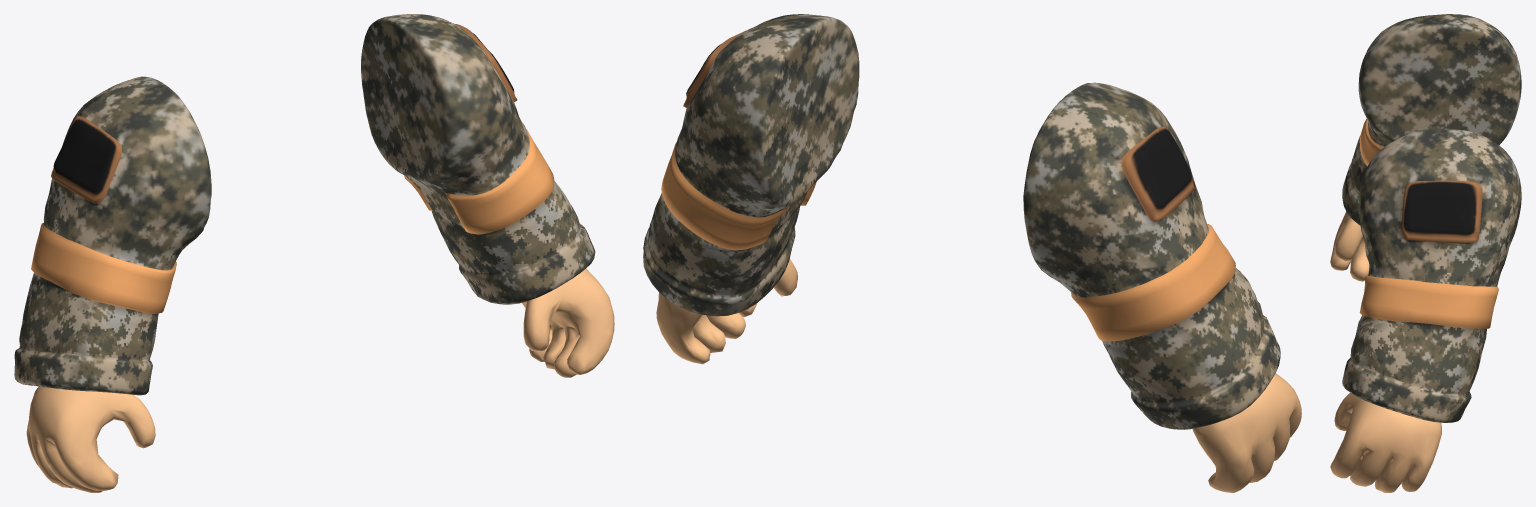
The model's file is Hand.glb.
3 renders of one model, left to right at view 1: azimuth 30°, elevation 25°; view 2: azimuth 150°, elevation 25°; view 3: azimuth 270°, elevation 25°, orthographic. The views are drawn at different scales.
Visible parts, largest first — view 1: Hand_low; view 2: Hand_low; view 3: Hand_low.
Boxes of the visible parts, x1=… form: Hand_low: x1=14, y1=14, x2=614, y2=492; Hand_low: x1=643, y1=14, x2=1301, y2=492; Hand_low: x1=1330, y1=14, x2=1521, y2=492.
Size of the model in its own units: 0.8587 by 0.5115 by 0.2869.
1 material, 1 textured.
